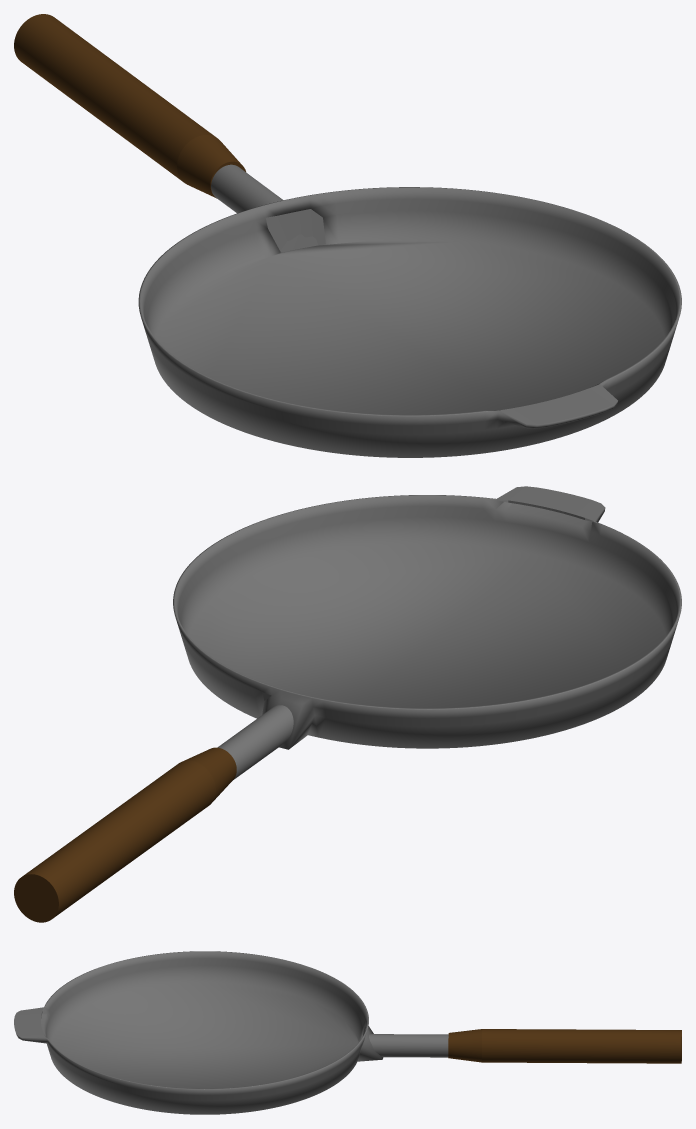
The model's file is SartenWok.fbx.
The picture shows the model from 3 angles, top to bottom: view 1: azimuth 30°, elevation 25°; view 2: azimuth 150°, elevation 25°; view 3: azimuth 270°, elevation 25°; orthographic projection. The views are drawn at different scales.
Visible parts, largest first — view 1: Circle_1; view 2: Circle_1; view 3: Circle_1.
Boxes of the visible parts, left/top/right/bottom form: Circle_1: left=14, top=14, right=681, bottom=457; Circle_1: left=14, top=486, right=681, bottom=922; Circle_1: left=14, top=951, right=681, bottom=1114.
Size of the model in its own units: 211 by 25.05 by 430.
